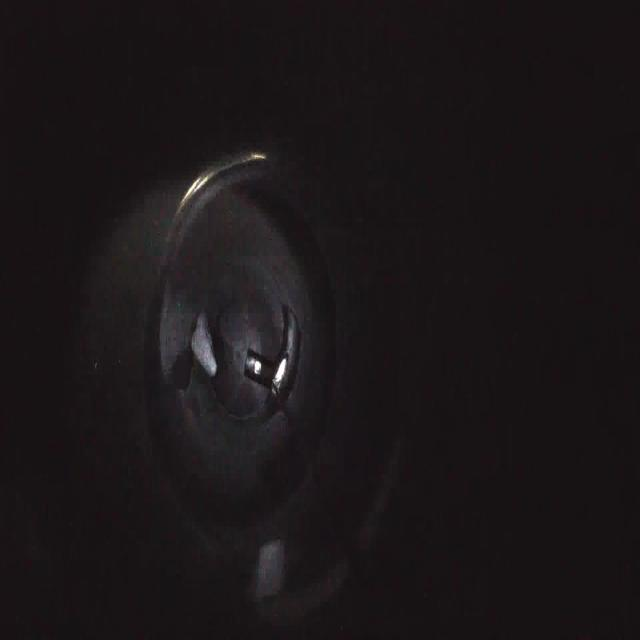impurity: (187, 306, 222, 384)
